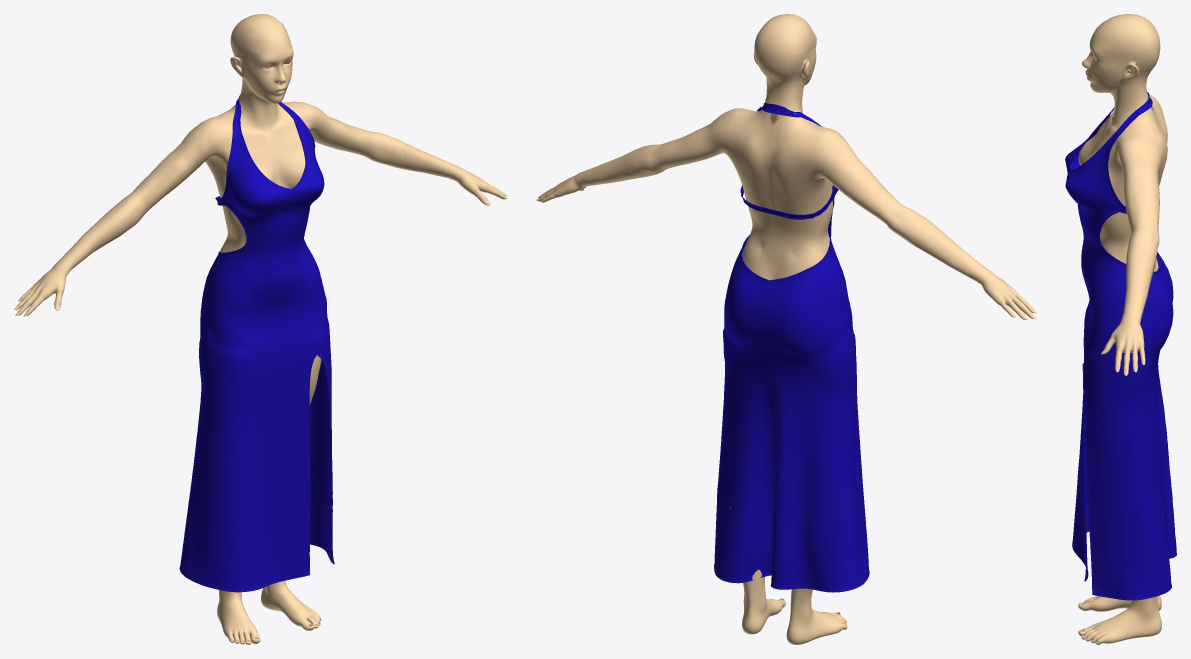
Rendered from dress9.glb.
The picture shows the model from 3 angles, left to right: view 1: azimuth 30°, elevation 25°; view 2: azimuth 150°, elevation 25°; view 3: azimuth 270°, elevation 25°; orthographic projection.
Parts seen in each view (by area): view 1: EveningDress, Body; view 2: EveningDress, Body; view 3: EveningDress, Body.
Part boxes in pixels (x1,y1,x2,y2): EveningDress: (179, 94, 334, 592); Body: (16, 14, 506, 644); EveningDress: (714, 103, 869, 592); Body: (538, 14, 1033, 644); EveningDress: (1065, 92, 1176, 600); Body: (1078, 14, 1167, 644).
Bounding box in the file's own units: 1.58 × 1.85 × 0.3089.
